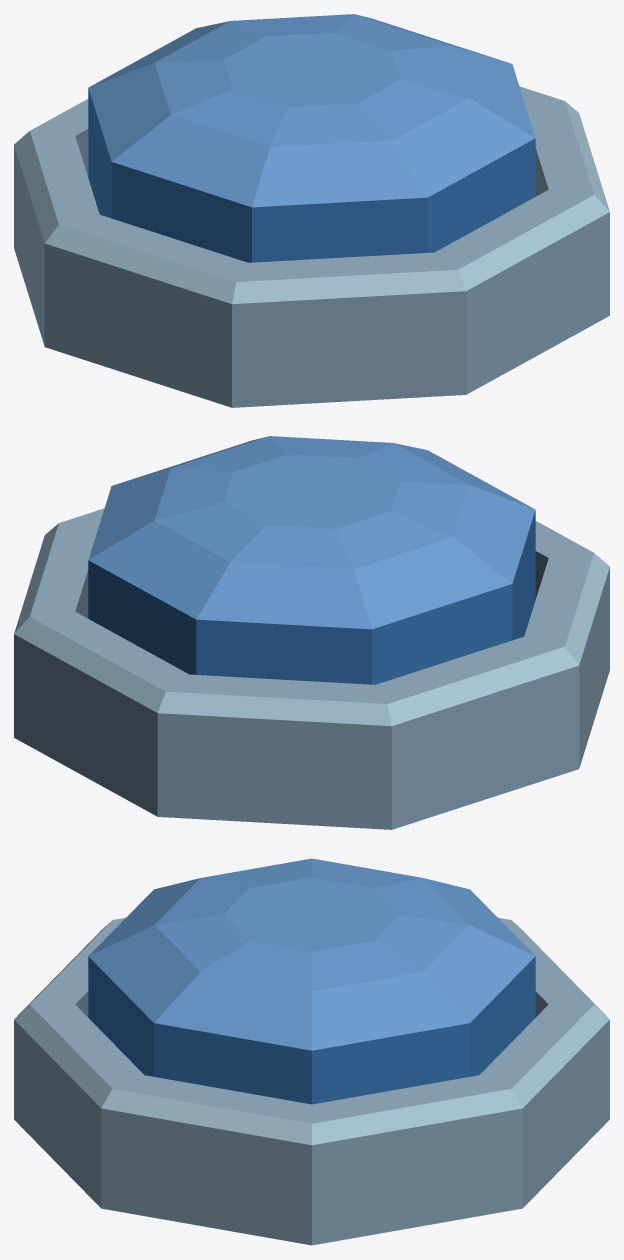
File: Blue_Button.glb
The picture shows the model from 3 angles, top to bottom: view 1: azimuth 30°, elevation 25°; view 2: azimuth 150°, elevation 25°; view 3: azimuth 270°, elevation 25°; orthographic projection. The views are drawn at different scales.
Parts seen in each view (by area): view 1: Base_Button_blue, Button_blue; view 2: Base_Button_blue, Button_blue; view 3: Base_Button_blue, Button_blue.
Boxes of the visible parts, x1,y1,x2,y2 form: Base_Button_blue: (14, 86, 609, 407); Button_blue: (88, 14, 535, 262); Base_Button_blue: (14, 508, 609, 829); Button_blue: (88, 436, 535, 684); Base_Button_blue: (14, 917, 609, 1245); Button_blue: (88, 858, 535, 1104).
Size of what is drawn, in the model's own units: 0.272 by 0.1032 by 0.272.
Materials: 1 (1 with a texture image).
